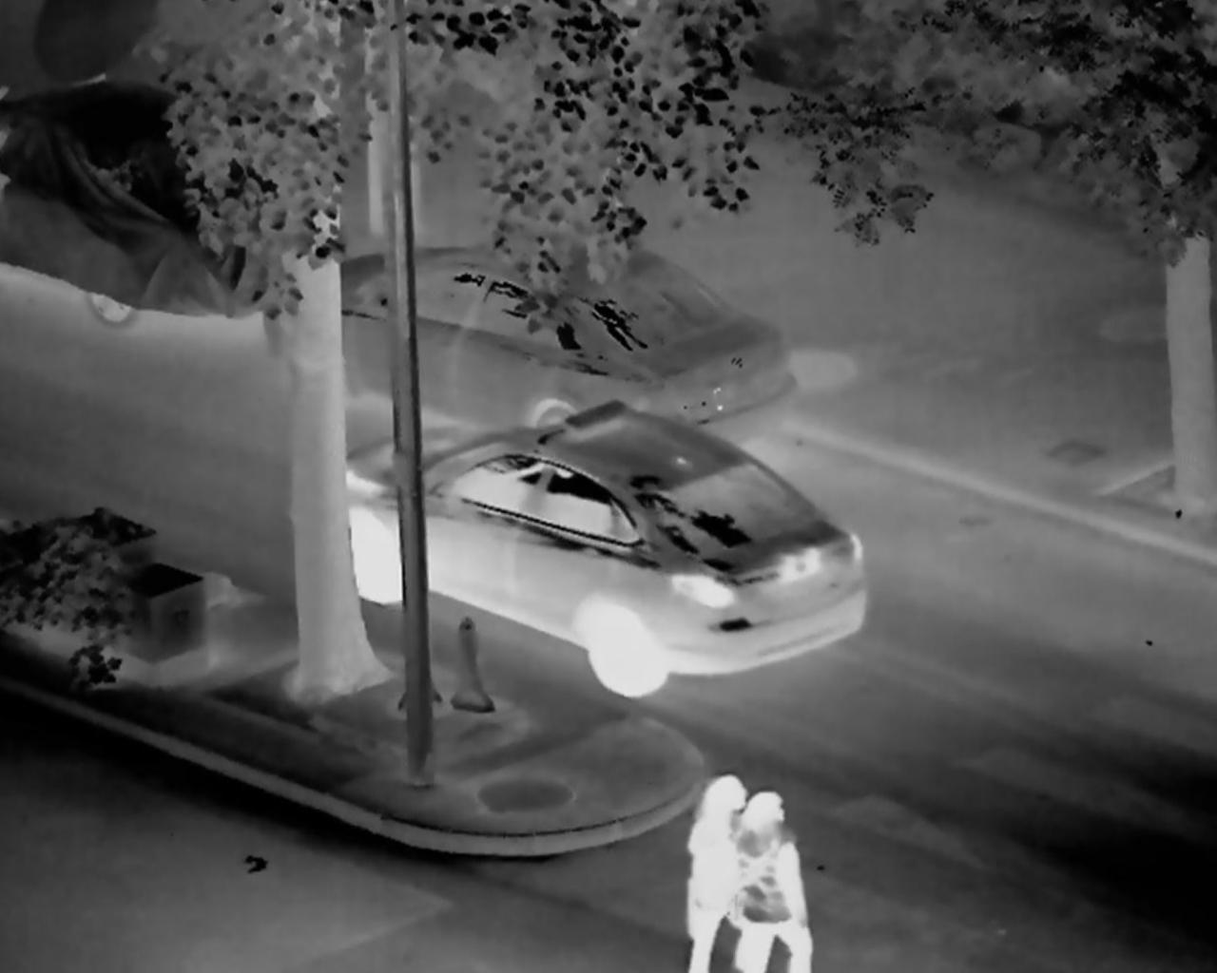person: (737, 787, 832, 973), (674, 750, 749, 973)
